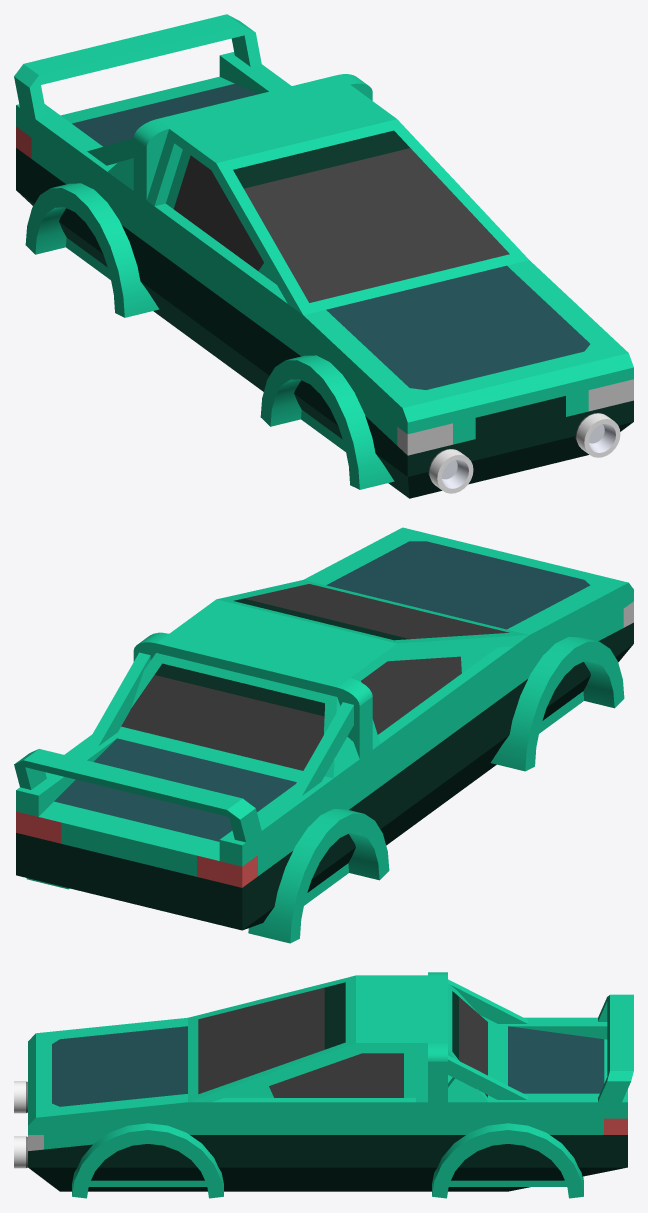
The model's file is Car2.fbx.
3 views of the same model, one above another, from view 1: azimuth 30°, elevation 25°; view 2: azimuth 150°, elevation 25°; view 3: azimuth 270°, elevation 25° (orthographic). The views are drawn at different scales.
Visible parts, largest first — view 1: mergedBlocks; view 2: mergedBlocks; view 3: mergedBlocks.
Part boxes in pixels (x1,y1,x2,y2): mergedBlocks: [14, 14, 633, 498]; mergedBlocks: [14, 527, 633, 943]; mergedBlocks: [14, 972, 633, 1198].
Size of the model in its own units: 11.65 by 8.2 by 31.
